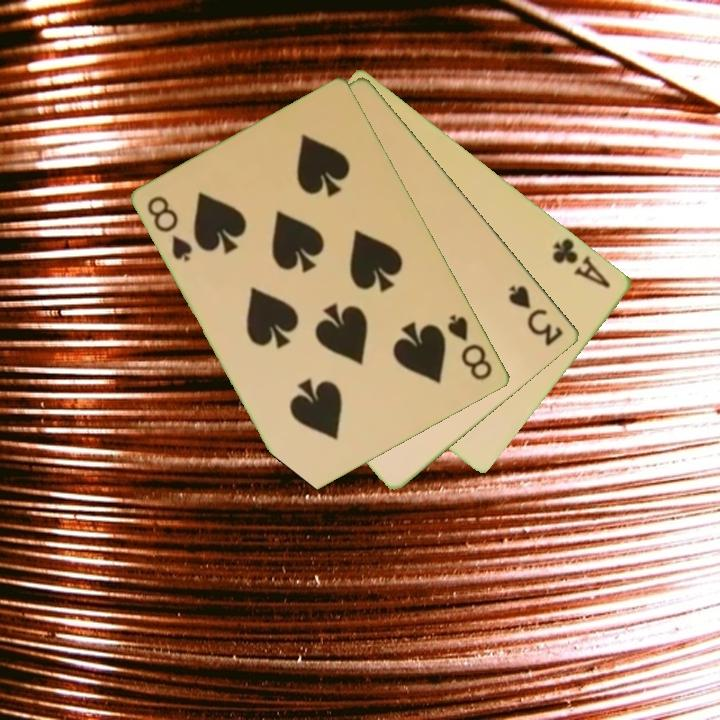3s: (505, 281, 567, 349)
8s: (444, 311, 496, 384), (144, 192, 196, 265)
Ac: (549, 234, 614, 291)
